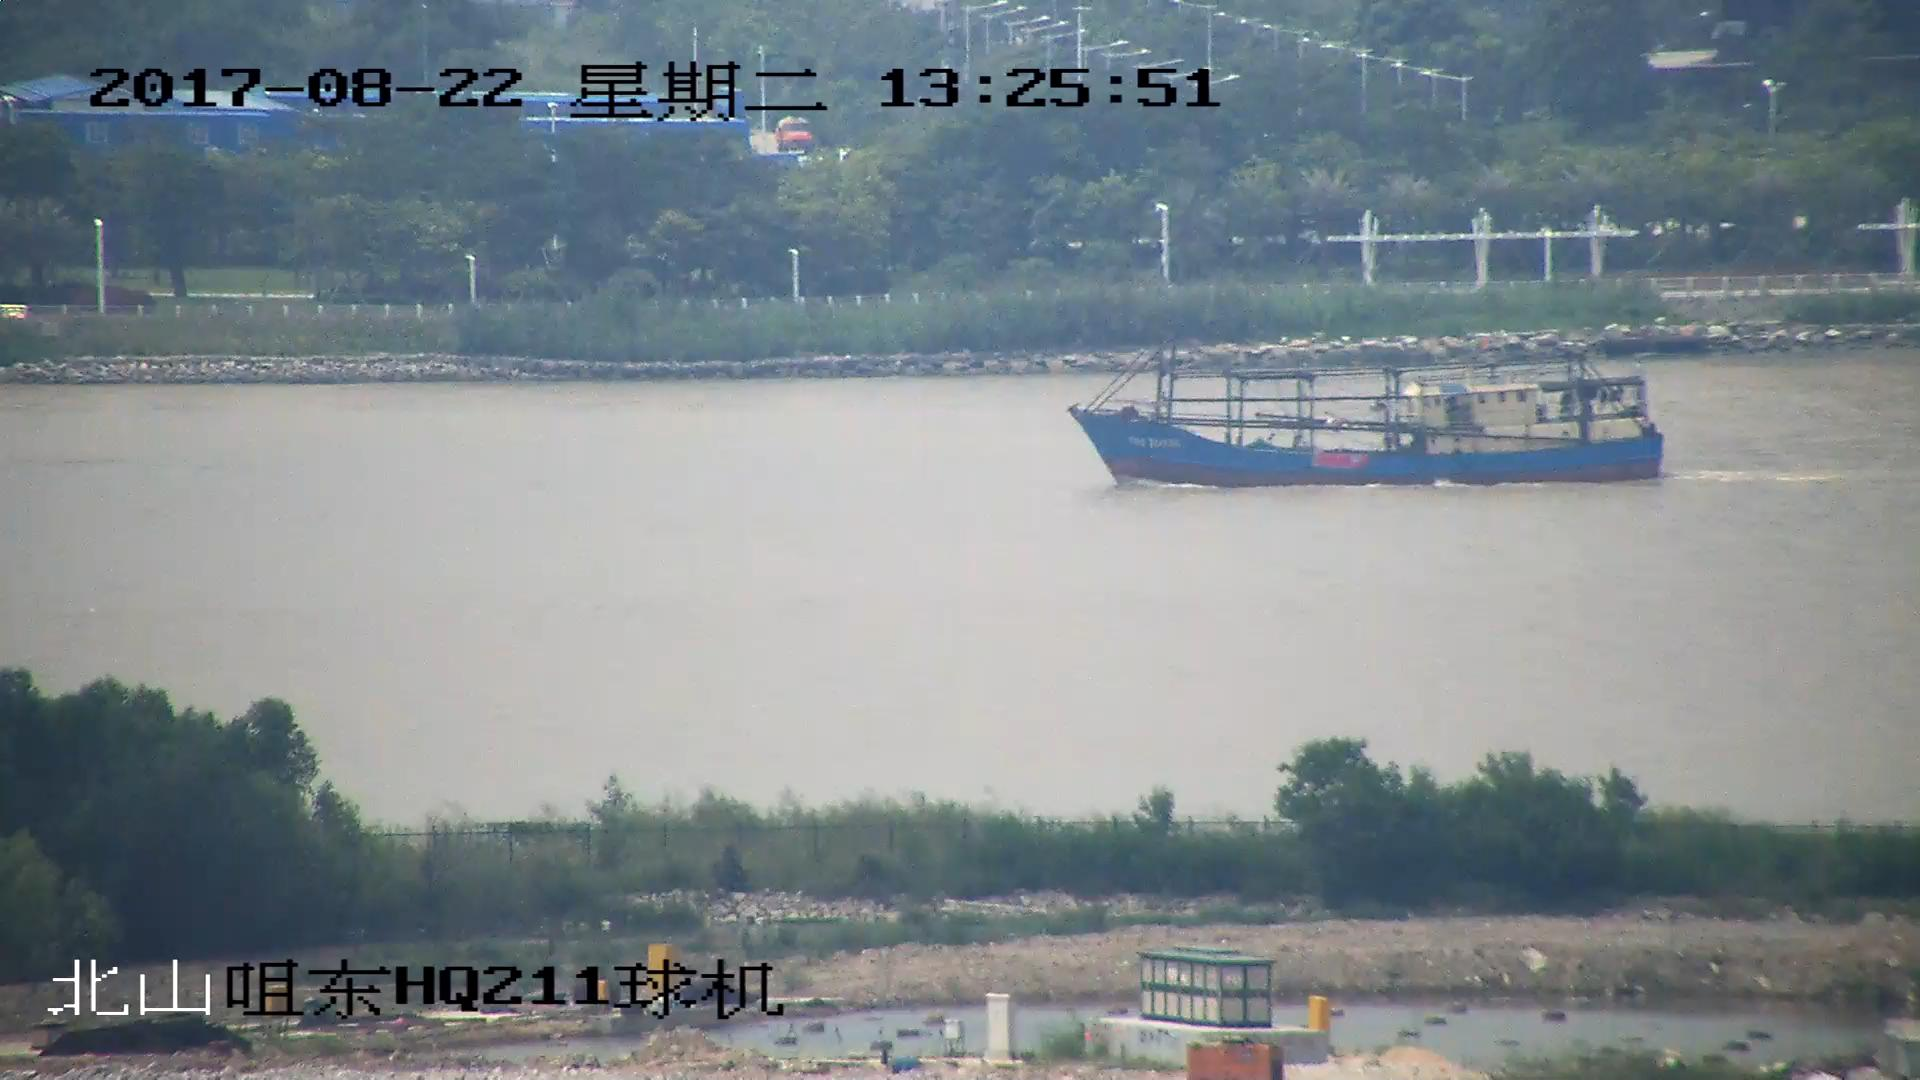fishing boat: (1071, 327, 1659, 488)
